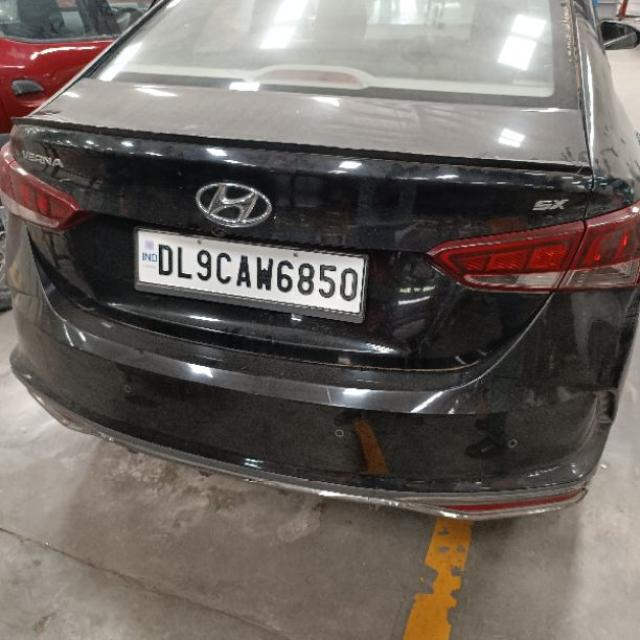license_plate: (131, 225, 369, 323)
